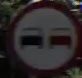No overtake: (10, 3, 74, 67)
